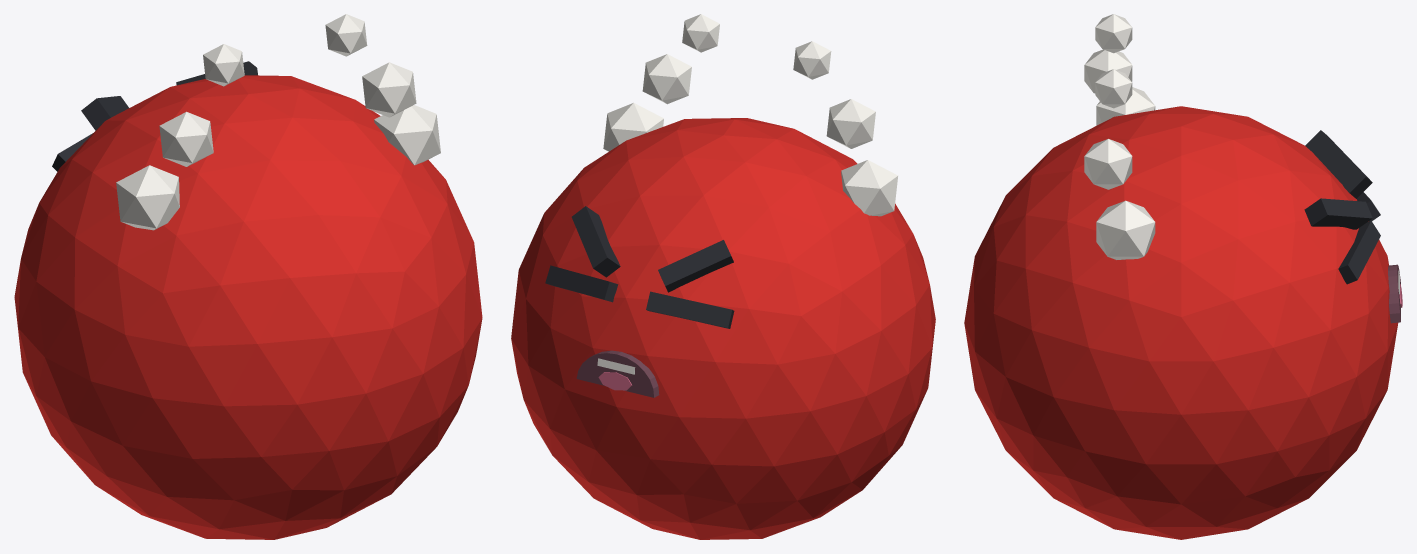
File: CH_Topik_T5_Blink.fbx
The picture shows the model from 3 angles, left to right: view 1: azimuth 30°, elevation 25°; view 2: azimuth 150°, elevation 25°; view 3: azimuth 270°, elevation 25°; orthographic projection. The views are drawn at different scales.
Parts seen in each view (by area): view 1: CH_Topik_T5_Blink; view 2: CH_Topik_T5_Blink; view 3: CH_Topik_T5_Blink.
Boxes of the visible parts, x1,y1,x2,y2 form: CH_Topik_T5_Blink: [14, 14, 482, 539]; CH_Topik_T5_Blink: [511, 14, 935, 539]; CH_Topik_T5_Blink: [964, 14, 1402, 539].
Bounding box in the file's own units: 1 × 1.22 × 1.01.
